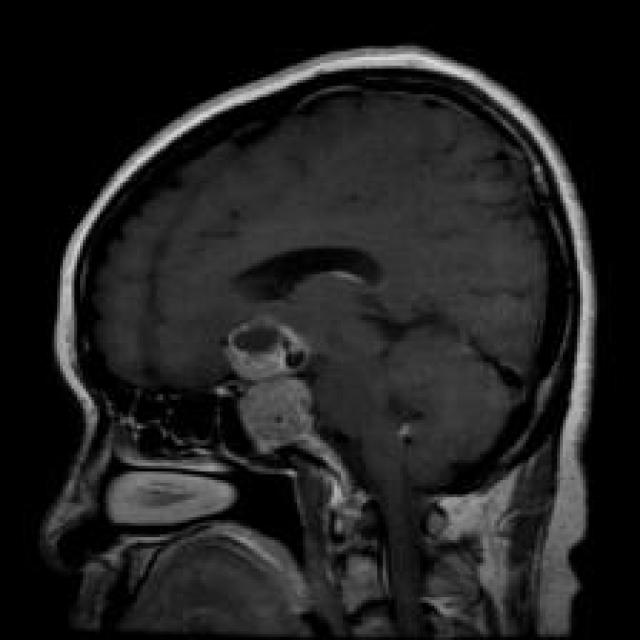pituitary_tumor: (208, 302, 344, 486)
